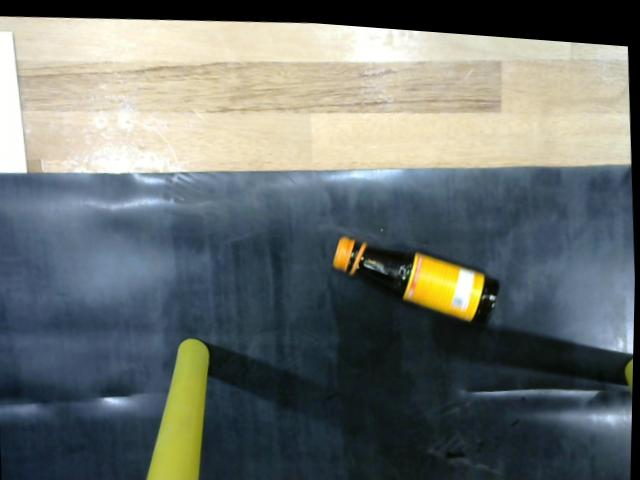glass: (337, 231, 502, 321)
